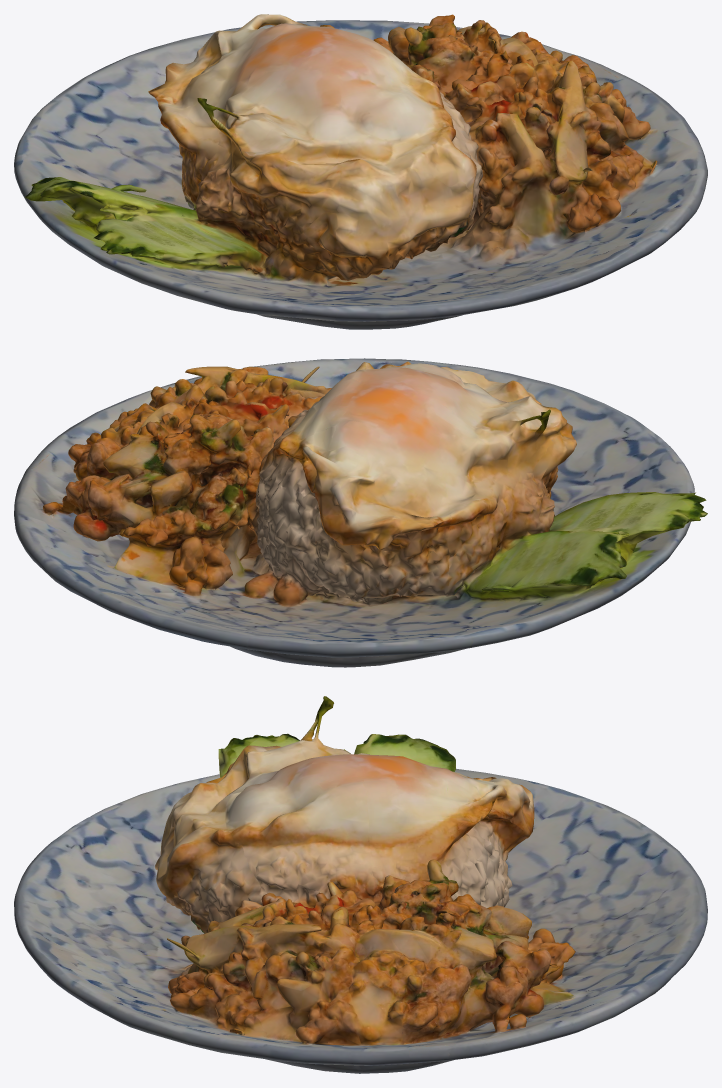
Rendered from gapao.glb.
3 views of the same model, one above another, from view 1: azimuth 30°, elevation 25°; view 2: azimuth 150°, elevation 25°; view 3: azimuth 270°, elevation 25° (orthographic).
Bounding box in the file's own units: 1.9 × 0.663 × 1.89.
Materials: 1 (1 with a texture image).
